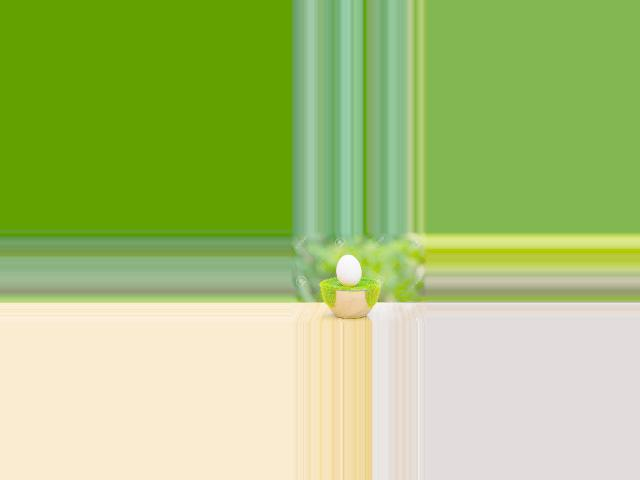egg: (337, 255, 362, 287)
